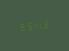eight: (18, 21, 23, 31)
five: (24, 20, 29, 31)
one: (36, 19, 41, 30), (30, 20, 35, 30)
two: (42, 19, 47, 29)
